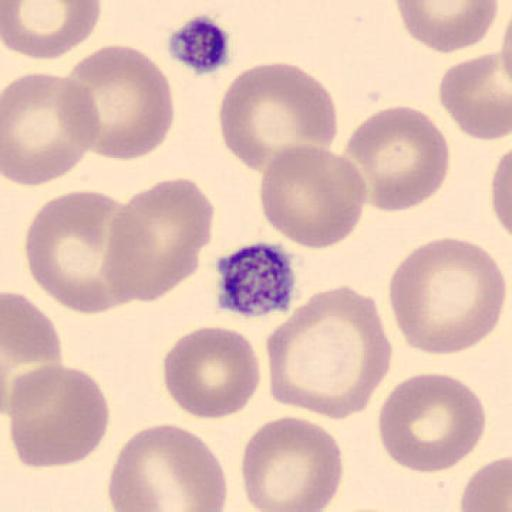Platelet: (212, 239, 300, 320), (165, 12, 233, 77)
RBC: (264, 285, 392, 422), (22, 188, 140, 318), (386, 235, 507, 357), (104, 176, 216, 306), (217, 60, 339, 174), (64, 42, 176, 162), (342, 104, 452, 215), (258, 143, 368, 251), (2, 70, 102, 187), (377, 372, 488, 474), (7, 362, 111, 470), (106, 421, 227, 512), (240, 414, 345, 511), (161, 324, 261, 422), (1, 290, 64, 404), (438, 49, 512, 141), (2, 0, 102, 62), (394, 0, 498, 54), (2, 290, 63, 370), (459, 454, 511, 512), (490, 141, 512, 242), (499, 2, 512, 95)
